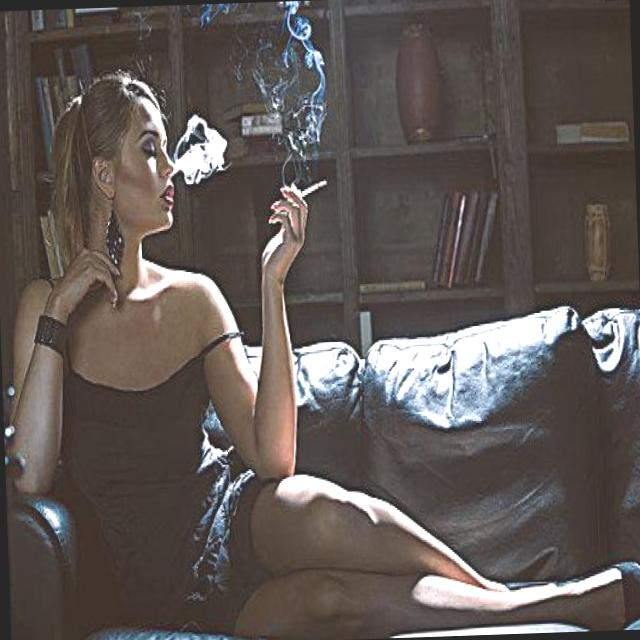smoke: (278, 176, 328, 212)
